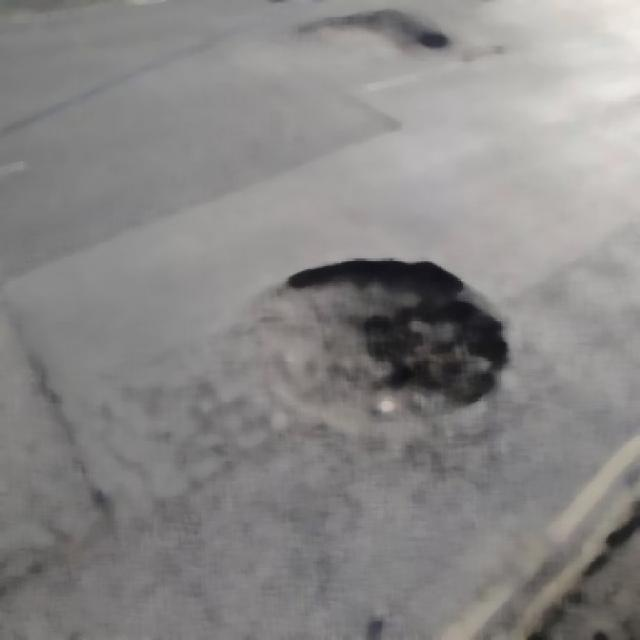Pothole: (248, 253, 500, 462), (290, 0, 478, 71)
